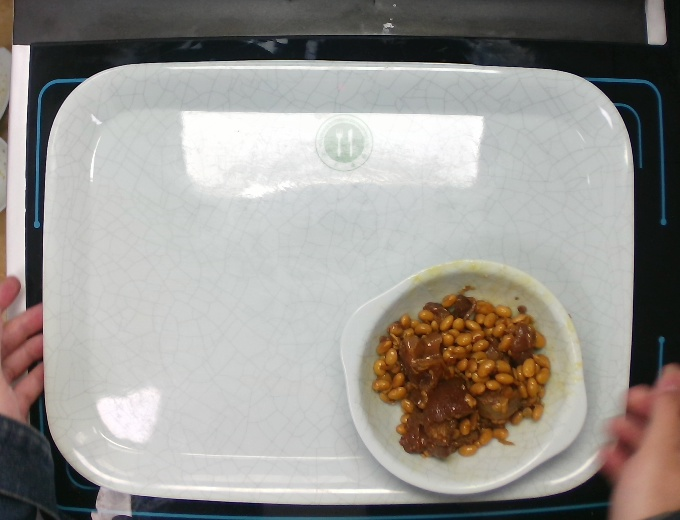JYsf-Shuang_Er_Wan: (336, 257, 591, 499)
